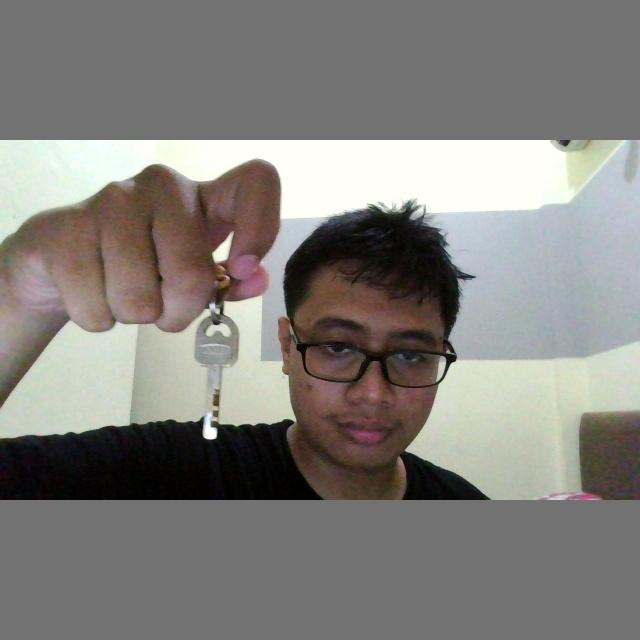Keys: (194, 308, 242, 446)
